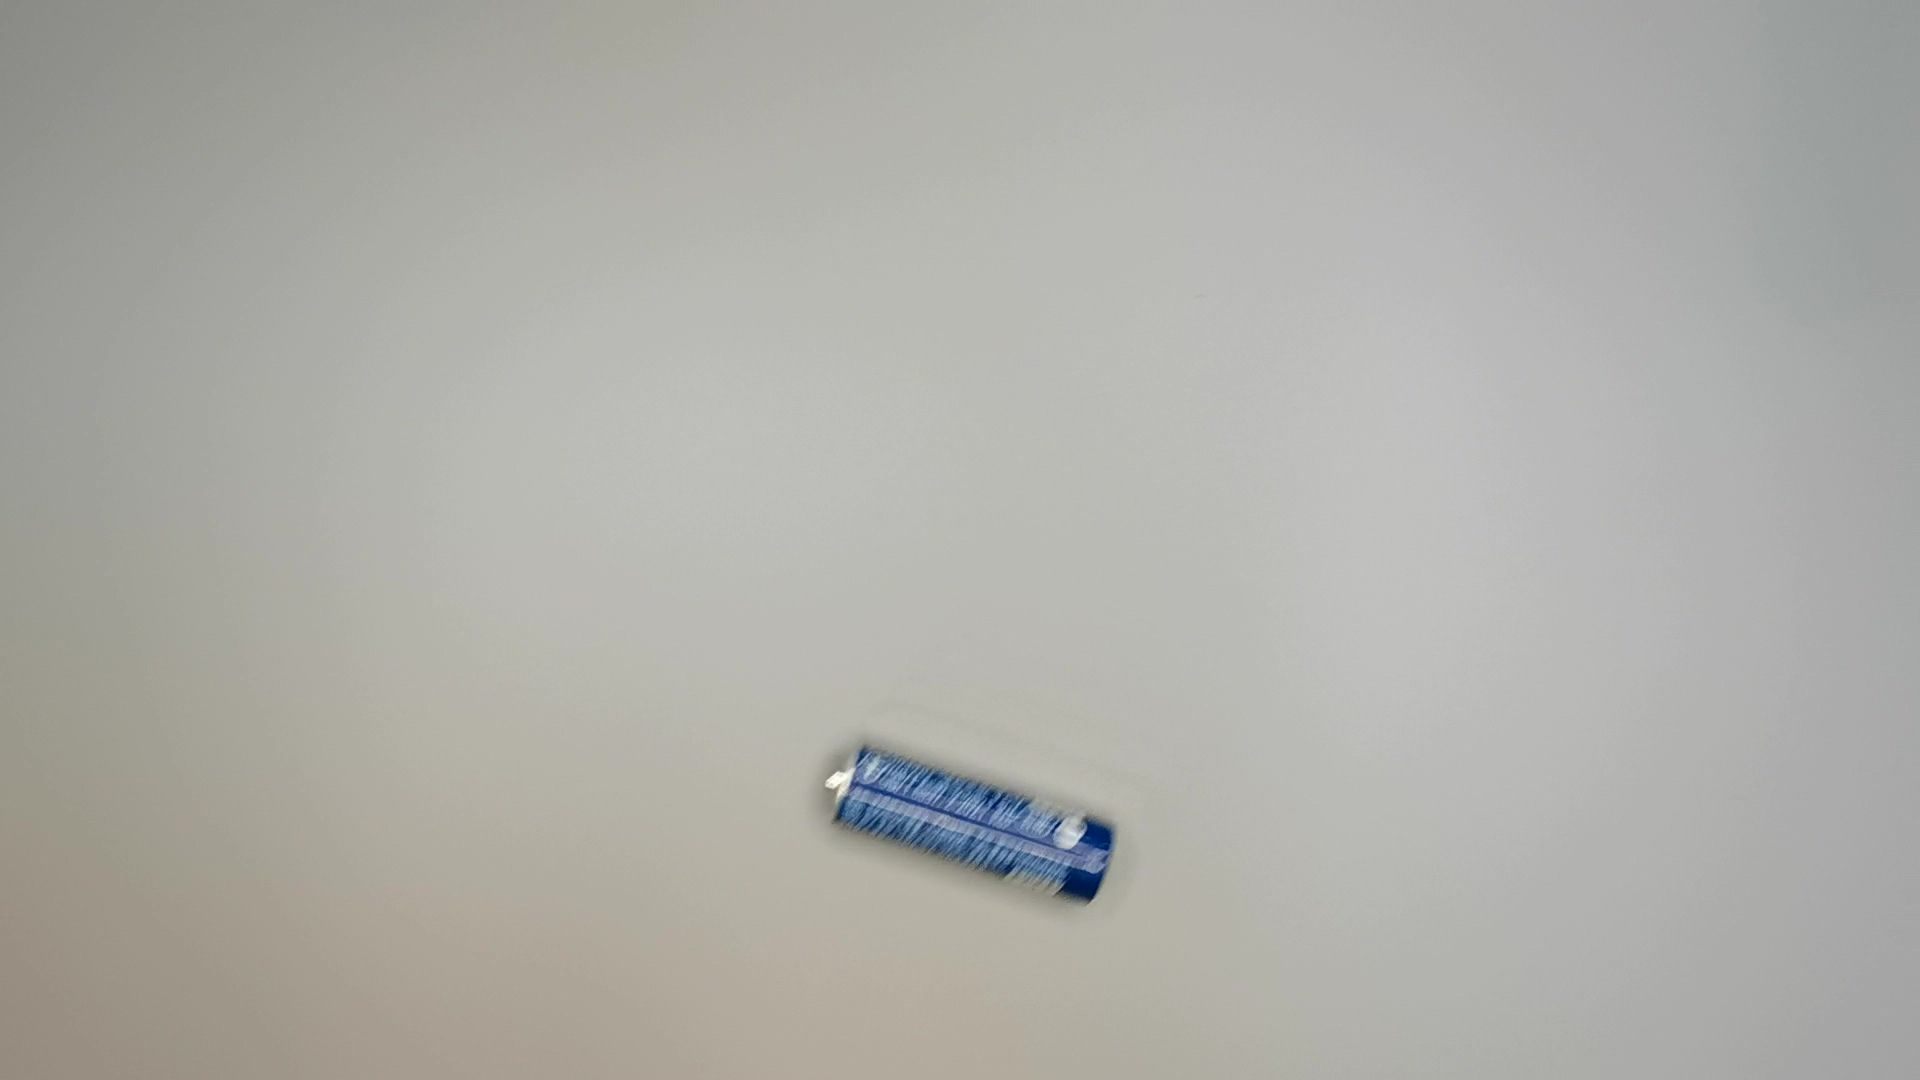battery: (819, 746, 1121, 915)
